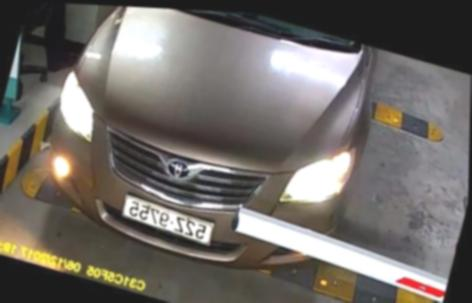License_Plate: (115, 188, 232, 249)
